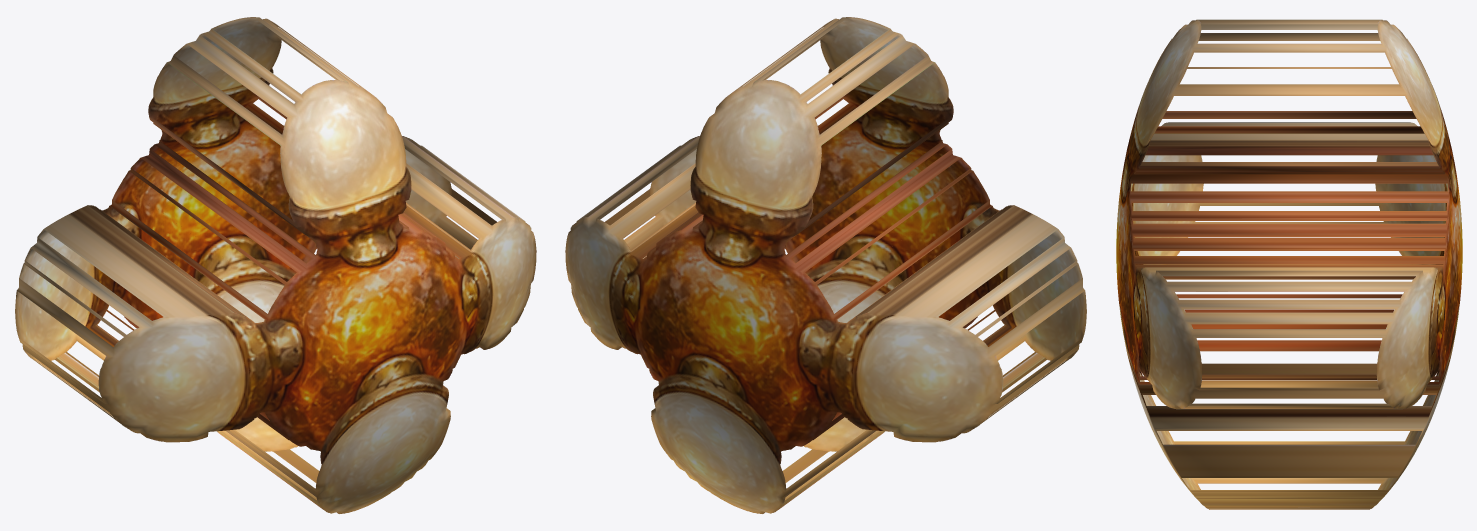
The picture shows the model from 3 angles, left to right: view 1: azimuth 30°, elevation 25°; view 2: azimuth 150°, elevation 25°; view 3: azimuth 270°, elevation 25°; orthographic projection. The views are drawn at different scales.
Visible parts, largest first — view 1: matter:7; view 2: matter:7; view 3: matter:7.
Part boxes in pixels (x1,y1,x2,y2): matter:7: [15, 17, 536, 513]; matter:7: [565, 17, 1086, 513]; matter:7: [1116, 19, 1462, 509].
Size of the model in its own units: 0.9964 by 0.9565 by 0.66.
1 material, 1 textured.
